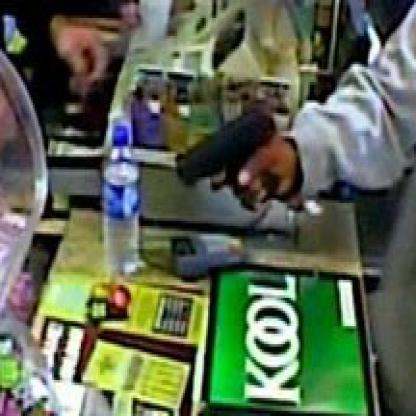gun: (166, 102, 289, 210)
